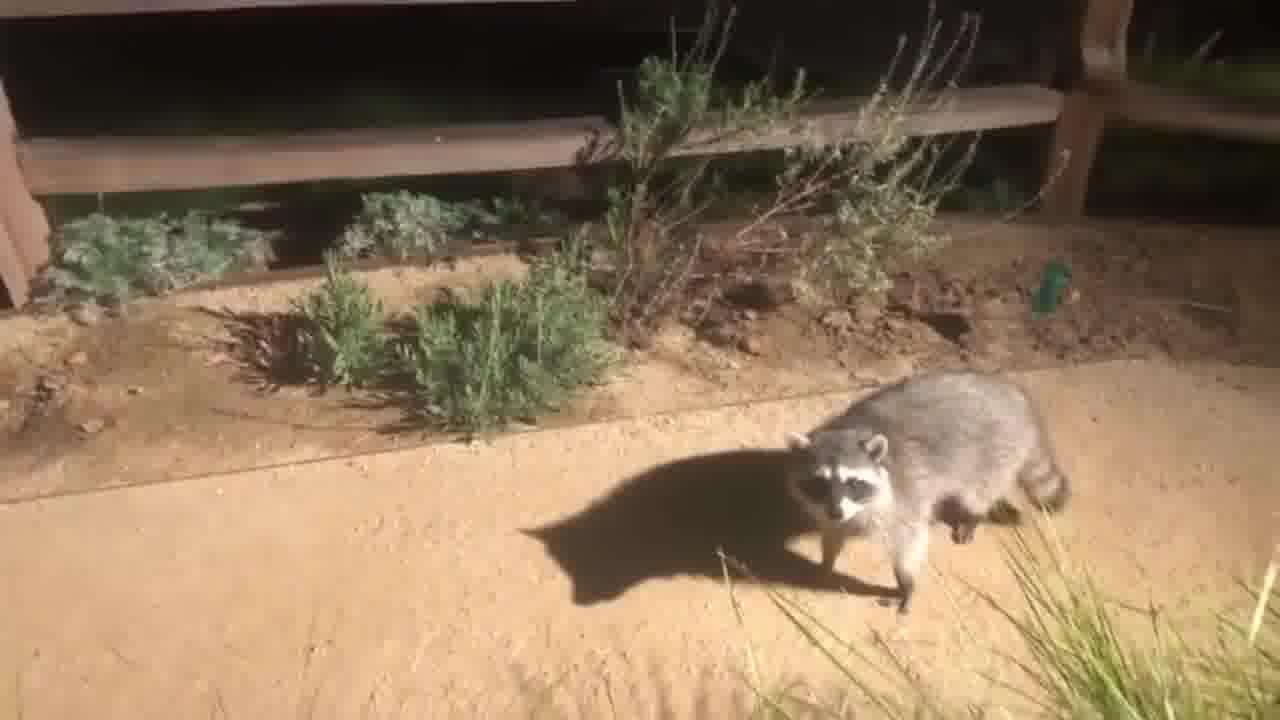raccoon: (780, 358, 1079, 620)
